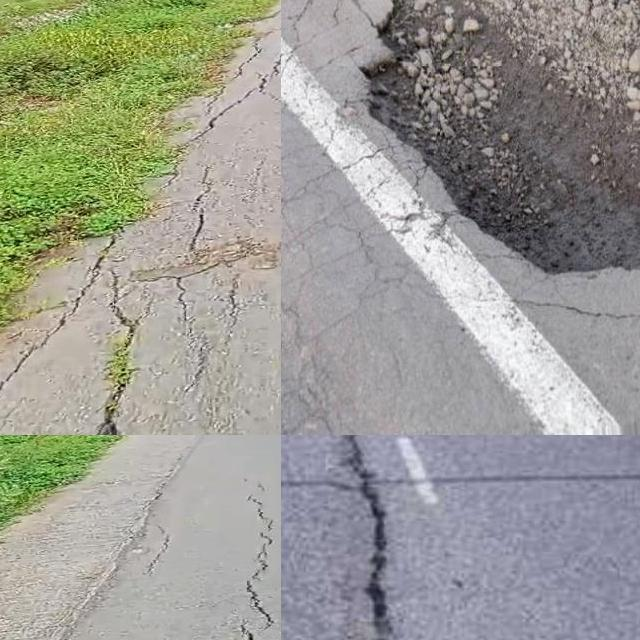Memanjang: (328, 435, 407, 640), (225, 485, 281, 640)
Pinggir: (0, 0, 281, 435), (376, 0, 640, 283)
